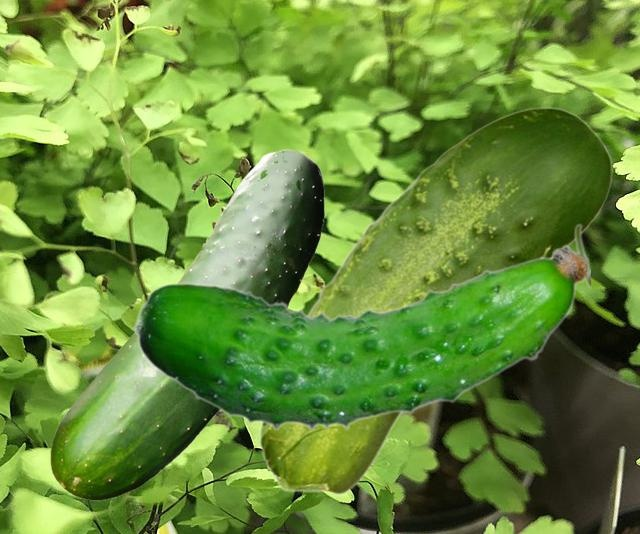cucumber: (258, 107, 611, 494), (50, 149, 323, 499), (131, 223, 589, 431)
